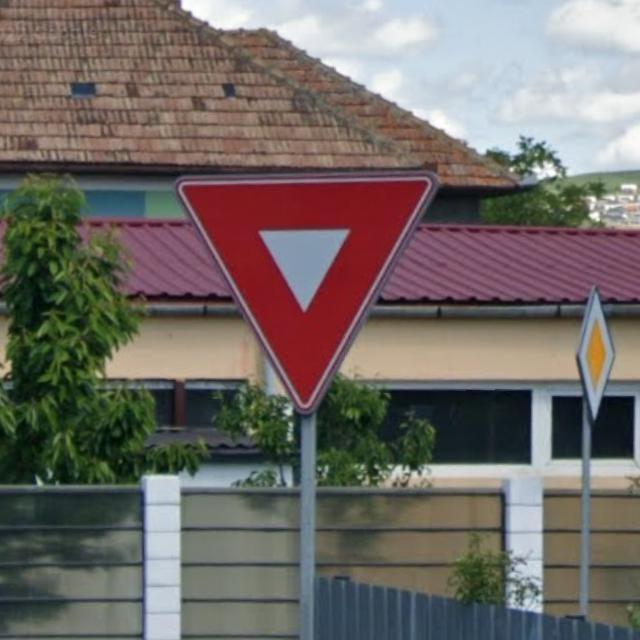prio_give_way: (170, 170, 429, 408)
